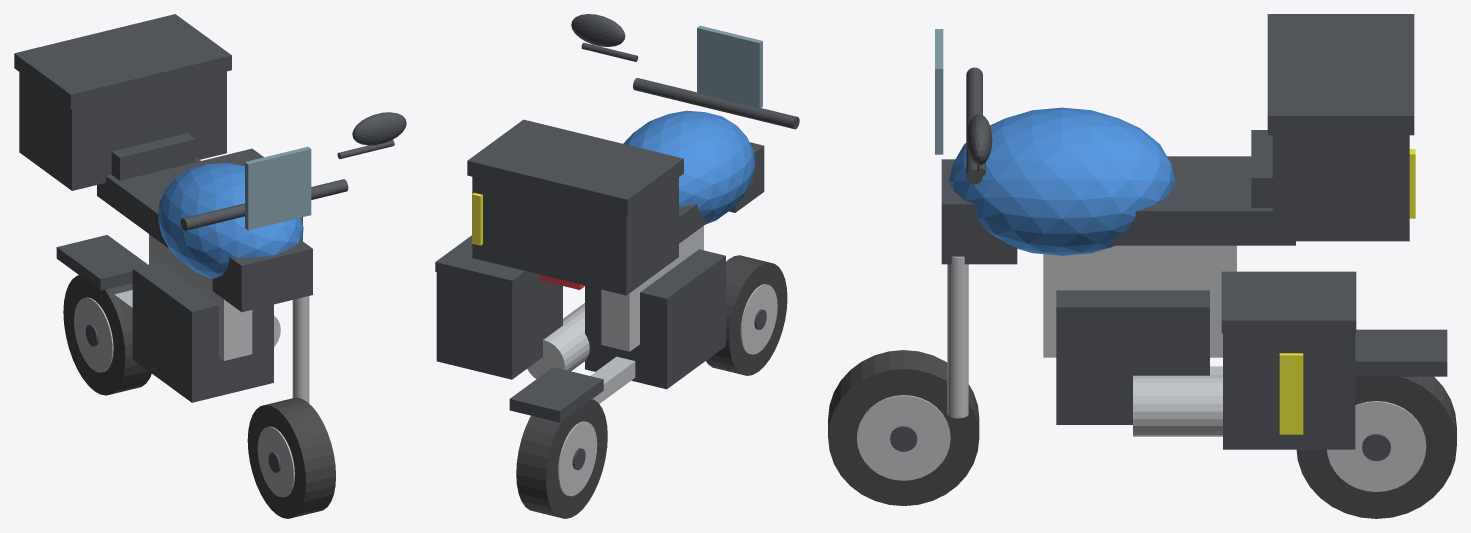
The model's file is voge-525dsx-referencia.glb.
3 renders of one model, left to right at view 1: azimuth 30°, elevation 25°; view 2: azimuth 150°, elevation 25°; view 3: azimuth 270°, elevation 25°, orthographic. The views are drawn at different scales.
Parts seen in each view (by area): view 1: Baul trasero, Motor, Tapa baul, Deposito central, Rueda delantera neumatico, Carenado trasero, Parabrisas, Rueda trasera neumatico, Asiento, Chasis, Guardabarros trasero, Colin (+6 smaller); view 2: Baul trasero, Tapa baul, Motor, Maleta lateral, Deposito central, Rueda trasera neumatico, Rueda delantera neumatico, Parabrisas, Guardabarros trasero, Chasis, Escape, Tapa maleta lateral (+8 smaller); view 3: Deposito central, Tapa baul, Motor, Baul trasero, Maleta lateral, Rueda delantera neumatico, Asiento, Chasis, Rueda trasera neumatico, Tapa maleta lateral, Rueda delantera llanta, Rueda trasera llanta (+9 smaller).
Boxes of the visible parts, <box> form: Baul trasero: <box>19,71,226,190</box>; Motor: <box>132,262,273,402</box>; Tapa baul: <box>14,14,231,109</box>; Deposito central: <box>158,162,303,278</box>; Rueda delantera neumatico: <box>247,397,335,518</box>; Carenado trasero: <box>212,240,312,312</box>; Parabrisas: <box>245,146,311,230</box>; Rueda trasera neumatico: <box>63,275,151,395</box>; Asiento: <box>97,157,205,247</box>; Chasis: <box>149,234,252,360</box>; Guardabarros trasero: <box>56,235,147,290</box>; Colin: <box>111,133,195,180</box>; Baul trasero: <box>472,177,678,295</box>; Tapa baul: <box>467,119,683,214</box>; Motor: <box>585,249,725,389</box>; Maleta lateral: <box>436,272,562,379</box>; Deposito central: <box>623,110,754,224</box>; Rueda trasera neumatico: <box>516,399,607,518</box>; Rueda delantera neumatico: <box>706,255,787,375</box>; Parabrisas: <box>697,25,762,107</box>; Guardabarros trasero: <box>509,367,603,422</box>; Chasis: <box>601,226,703,351</box>; Escape: <box>527,303,589,378</box>; Tapa maleta lateral: <box>435,235,535,290</box>; Deposito central: <box>948,107,1175,255</box>; Tapa baul: <box>1267,14,1414,135</box>; Motor: <box>1056,290,1209,424</box>; Baul trasero: <box>1272,135,1409,241</box>; Maleta lateral: <box>1223,333,1355,449</box>; Rueda delantera neumatico: <box>828,350,979,505</box>; Asiento: <box>1111,156,1295,245</box>; Chasis: <box>1043,245,1236,357</box>; Rueda trasera neumatico: <box>1296,376,1456,518</box>; Tapa maleta lateral: <box>1221,271,1356,333</box>; Rueda delantera llanta: <box>857,395,950,480</box>; Rueda trasera llanta: <box>1327,401,1426,491</box>.
Bounding box in the file's own units: 1.42 × 2.16 × 2.66.
